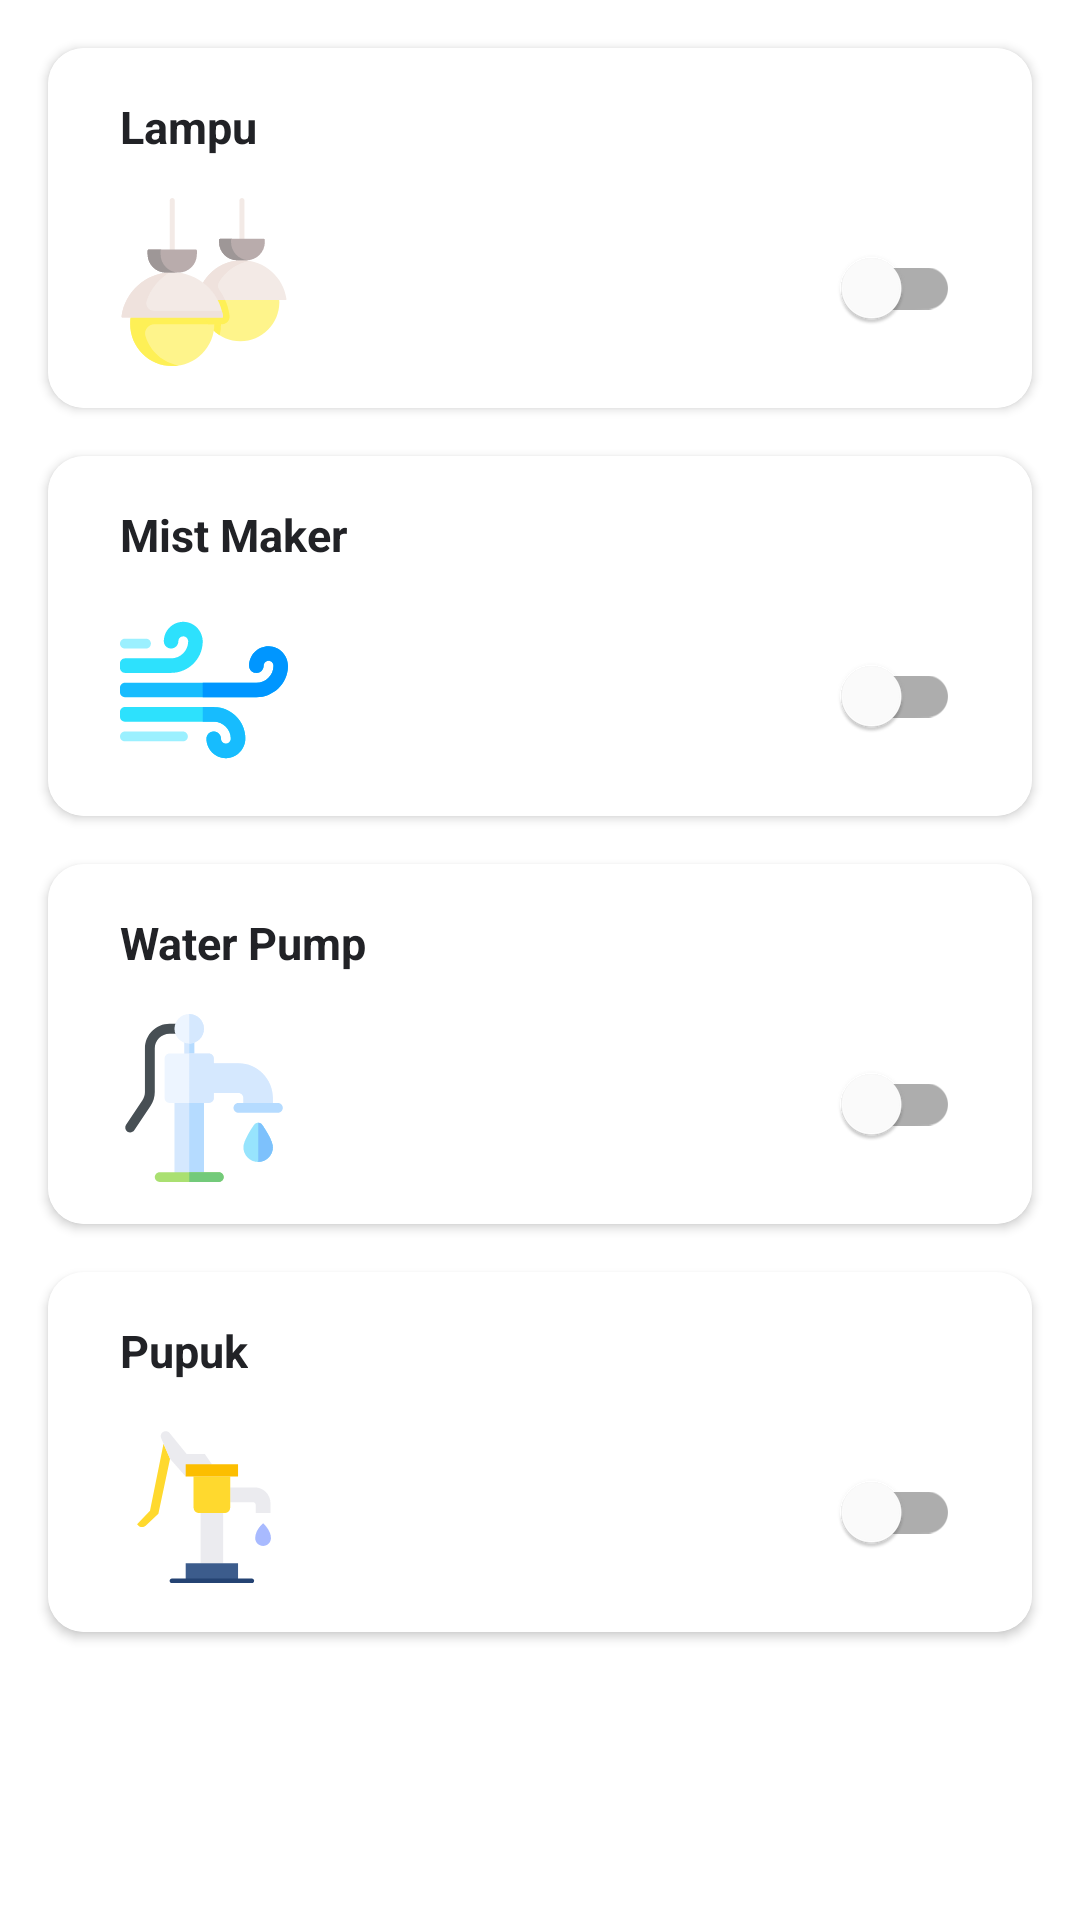

Point at icon controls on the screen. Image size 1080px×1920px, points as [x,y].
wind: [204,690]
